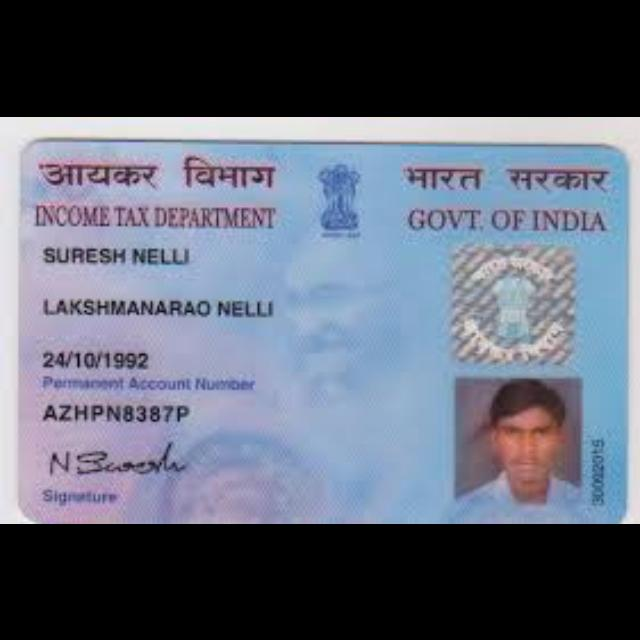pan: (13, 132, 632, 524)
